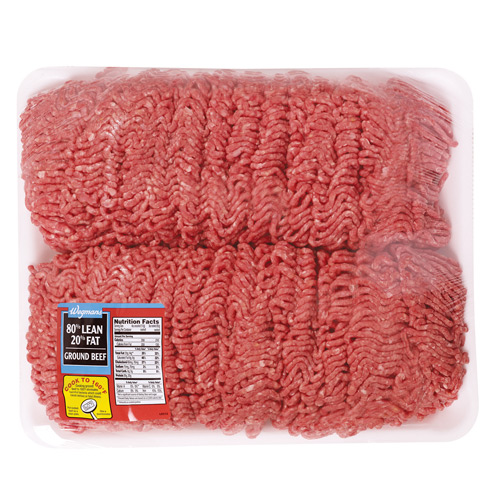ground_beef: (40, 253, 474, 437), (32, 74, 436, 247)
